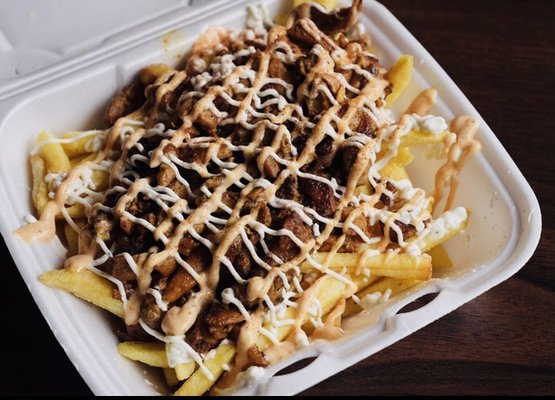curry: (14, 2, 552, 395)
sandwich: (17, 7, 542, 393)
